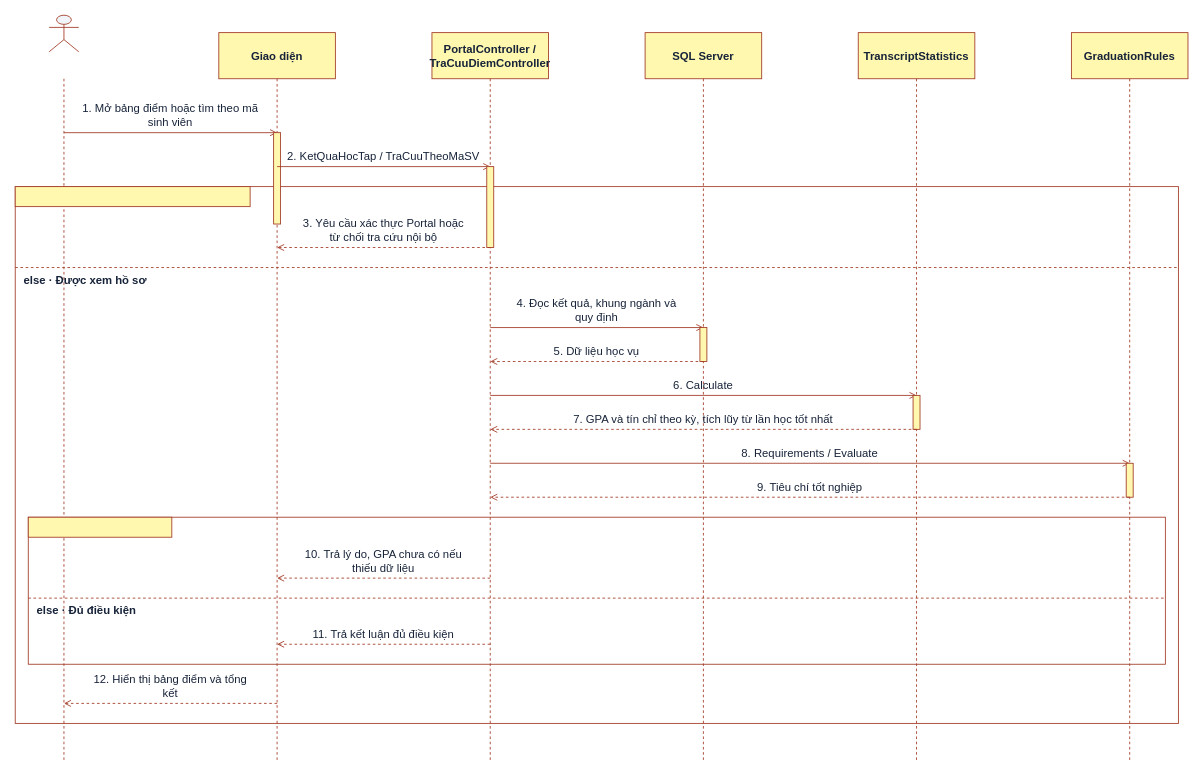
This 1203x777 diagram has some shape labels left out. Here are the shapes that lost their labels. From the top down, the centre of each, then its label:
(63,33): Người tra cứu
(132,196): alt Chưa xác thực hoặc ngoài phạm vi
(99,526): alt Chưa đủ điều kiện
